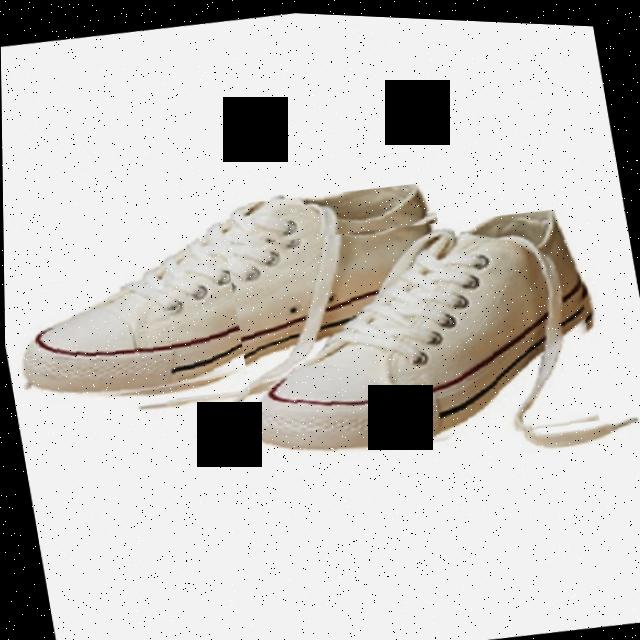shoe: (2, 162, 464, 426), (224, 190, 609, 479)
